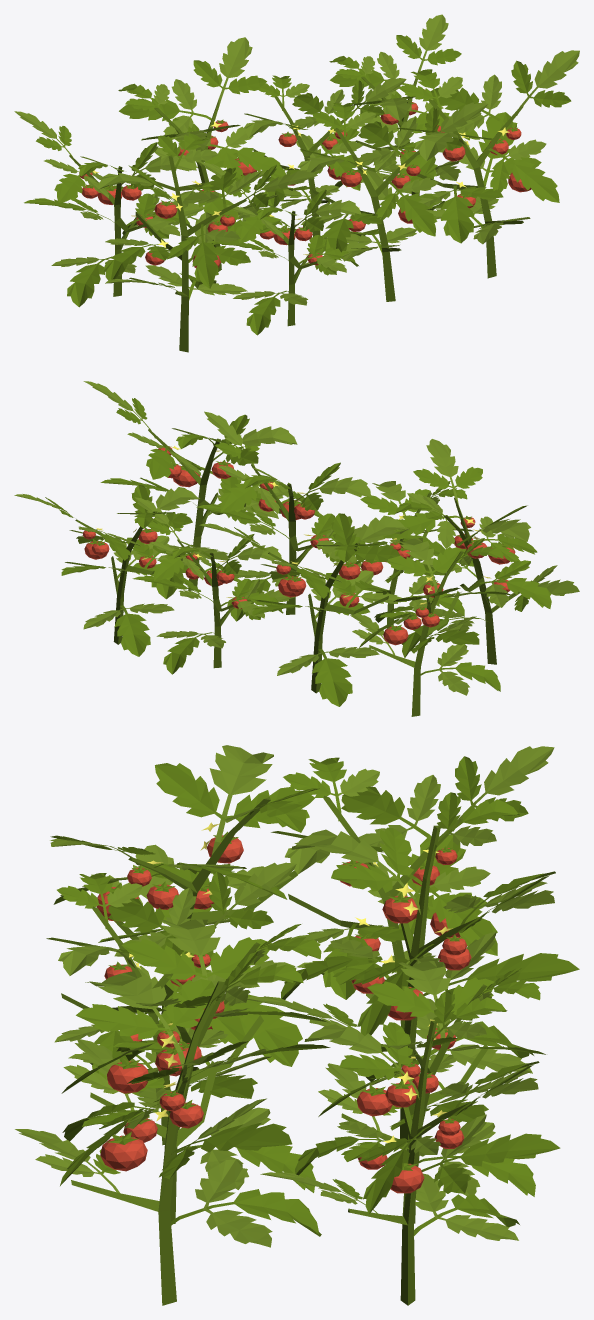
The model's file is farm_tomato.FBX.
The picture shows the model from 3 angles, top to bottom: view 1: azimuth 30°, elevation 25°; view 2: azimuth 150°, elevation 25°; view 3: azimuth 270°, elevation 25°; orthographic projection. The views are drawn at different scales.
Parts seen in each view (by area): view 1: Cylinder037; view 2: Cylinder037; view 3: Cylinder037.
Boxes of the visible parts, left/top/right/bottom form: Cylinder037: left=14, top=14, right=579, bottom=352; Cylinder037: left=14, top=381, right=579, bottom=716; Cylinder037: left=15, top=745, right=579, bottom=1305.
Size of the model in its own units: 12.6 by 4.79 by 7.74.
1 material, 1 textured.
